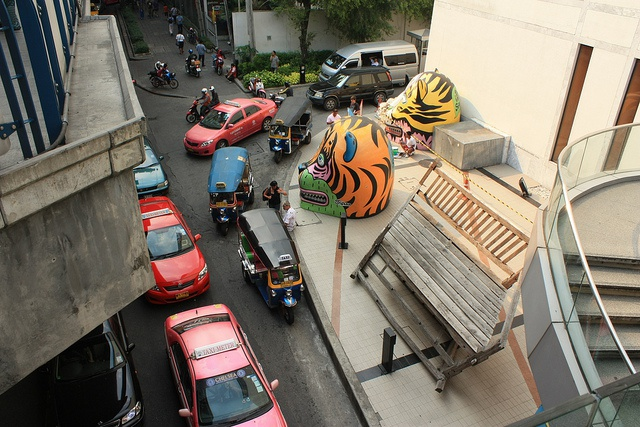non-vehicle: (185, 94, 211, 123), (147, 69, 178, 88), (246, 74, 267, 98), (183, 55, 202, 78), (267, 87, 284, 106), (213, 55, 223, 75)
